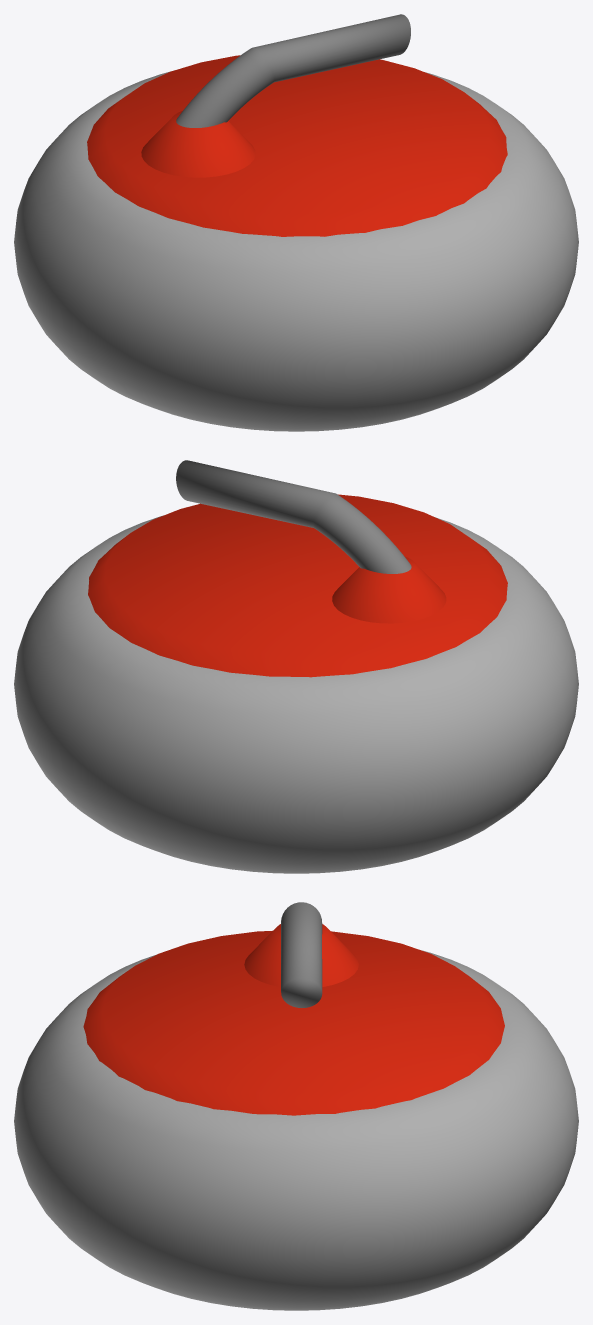
File: curling_stone_red.dae
3 renders of one model, top to bottom at view 1: azimuth 30°, elevation 25°; view 2: azimuth 150°, elevation 25°; view 3: azimuth 270°, elevation 25°, orthographic.
Parts seen in each view (by area): view 1: Pierre; view 2: Pierre; view 3: Pierre.
Boxes of the visible parts, x1,y1,x2,y2 form: Pierre: (14,14,578,431); Pierre: (14,460,578,873); Pierre: (14,902,578,1310).
Size of the model in its own units: 9 by 9 by 5.56.
